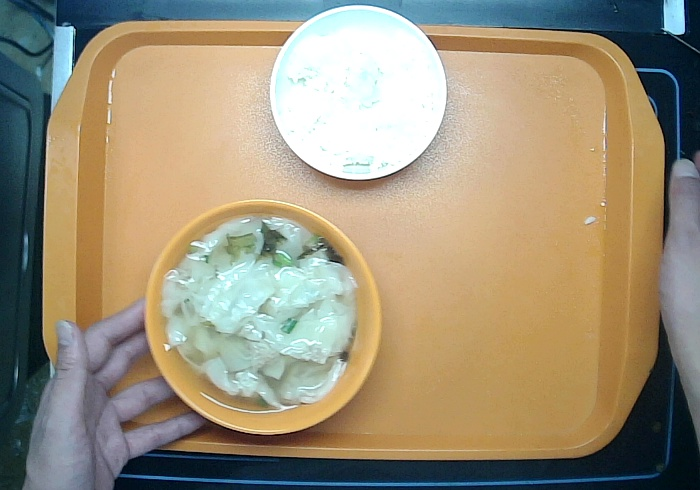NLDX-Fan_Wan: (264, 2, 452, 194)
NLDX-Hun_Tun_Wan: (134, 194, 388, 443)
